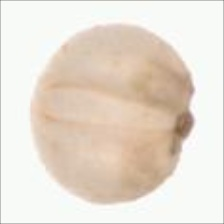L5: (32, 78, 176, 140), (164, 77, 200, 175)
L6: (26, 20, 200, 205)
